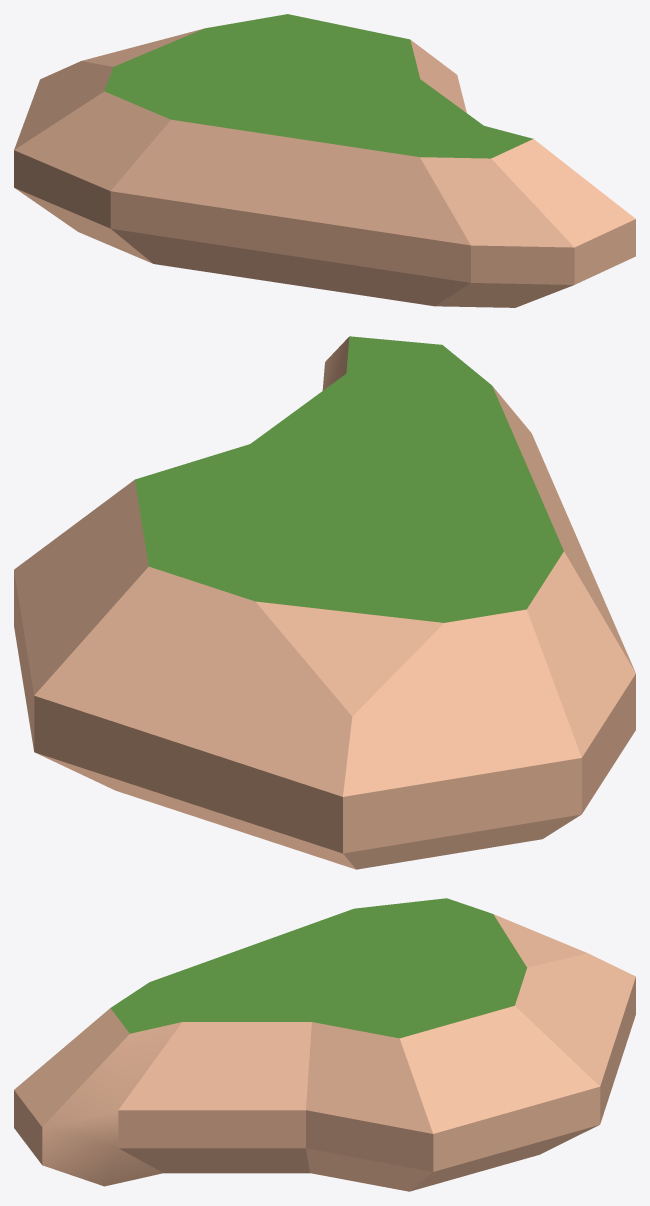
The model's file is rock-3.glb.
3 renders of one model, top to bottom at view 1: azimuth 30°, elevation 25°; view 2: azimuth 150°, elevation 25°; view 3: azimuth 270°, elevation 25°, orthographic. The views are drawn at different scales.
Visible parts, largest first — view 1: rock_largeA; view 2: rock_largeA; view 3: rock_largeA.
Part boxes in pixels (x1,y1,x2,y2): rock_largeA: (14,14,635,307); rock_largeA: (14,336,635,869); rock_largeA: (14,898,635,1191).
Size of the model in its own units: 2.42 by 0.7999 by 3.13.
